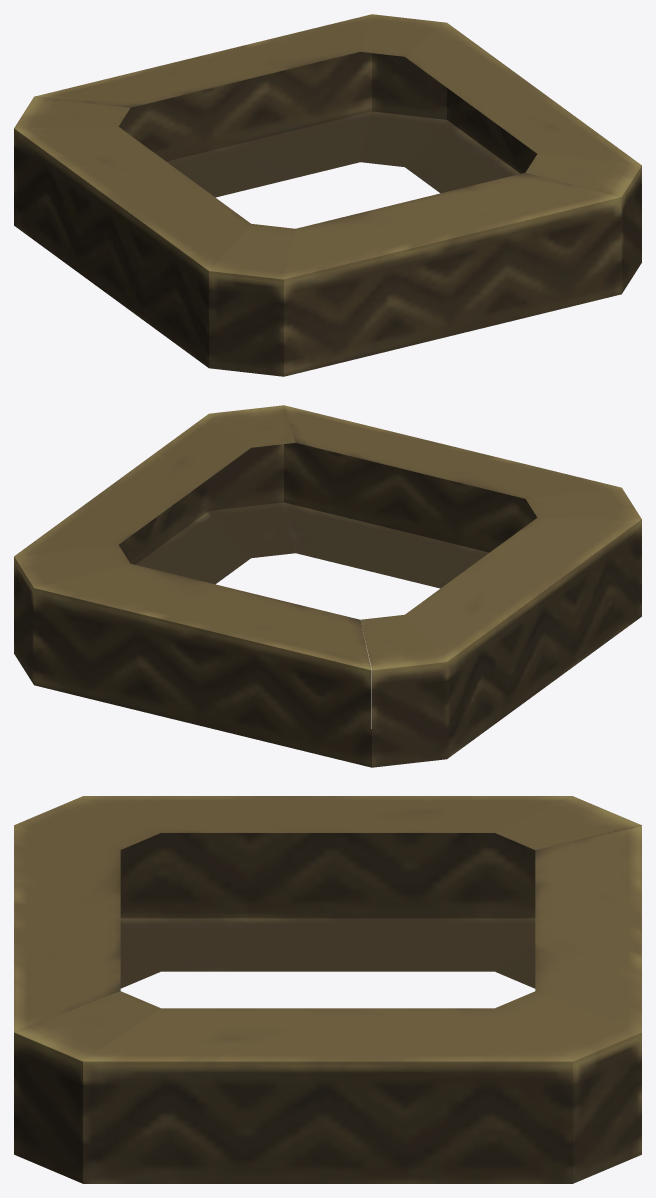
File: yw_shanlin_postmetal_001.FBX
The picture shows the model from 3 angles, top to bottom: view 1: azimuth 30°, elevation 25°; view 2: azimuth 150°, elevation 25°; view 3: azimuth 270°, elevation 25°; orthographic projection. The views are drawn at different scales.
Parts seen in each view (by area): view 1: yw_shanlin_postmetal_001; view 2: yw_shanlin_postmetal_001; view 3: yw_shanlin_postmetal_001.
Boxes of the visible parts, <box> form: yw_shanlin_postmetal_001: <box>14,14,641,376</box>; yw_shanlin_postmetal_001: <box>14,405,641,767</box>; yw_shanlin_postmetal_001: <box>14,796,641,1183</box>.
Size of the model in its own units: 43.19 by 43.16 by 10.52.
